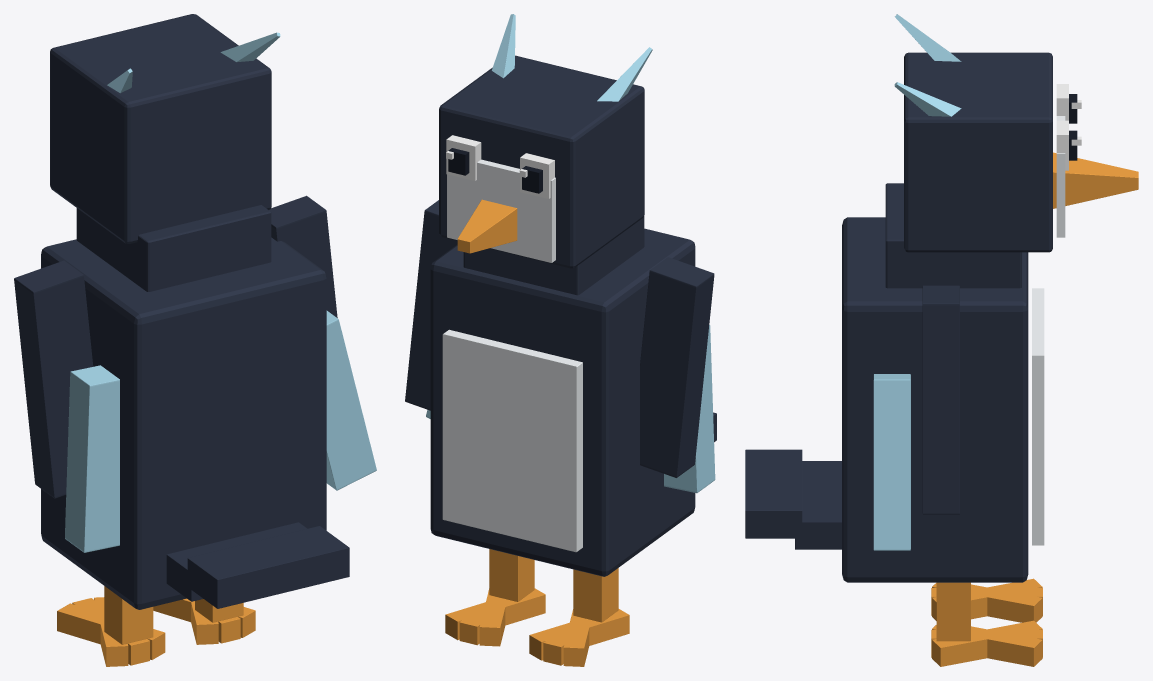
The model's file is penguin.glb.
The picture shows the model from 3 angles, left to right: view 1: azimuth 30°, elevation 25°; view 2: azimuth 150°, elevation 25°; view 3: azimuth 270°, elevation 25°; orthographic projection. The views are drawn at different scales.
Visible parts, largest first — view 1: body, head, wing.R, tail, wing.L, leg.FR, leg.FL; view 2: body, head, wing.R, leg.FR, leg.FL, wing.L; view 3: body, head, wing.L, tail, leg.FL, leg.FR.
Part boxes in pixels (x1=…): body: x1=41, y1=205, x2=326, y2=609; head: x1=50, y1=14, x2=280, y2=243; wing.R: x1=14, y1=260, x2=119, y2=552; tail: x1=166, y1=522, x2=349, y2=608; wing.L: x1=269, y1=195, x2=376, y2=490; leg.FR: x1=57, y1=586, x2=165, y2=666; leg.FL: x1=153, y1=598, x2=255, y2=644; body: x1=430, y1=216, x2=695, y2=576; head: x1=439, y1=14, x2=652, y2=268; wing.R: x1=640, y1=257, x2=715, y2=493; leg.FR: x1=529, y1=568, x2=629, y2=666; leg.FL: x1=445, y1=549, x2=545, y2=646; wing.L: x1=405, y1=200, x2=457, y2=418; body: x1=842, y1=183, x2=1044, y2=582; head: x1=894, y1=14, x2=1138, y2=252; wing.L: x1=873, y1=285, x2=959, y2=550; tail: x1=745, y1=449, x2=841, y2=549; leg.FL: x1=931, y1=582, x2=1042, y2=666; leg.FR: x1=931, y1=578, x2=1042, y2=622.
Bounding box in the file's own units: 0.5404 × 1 × 0.6099.
